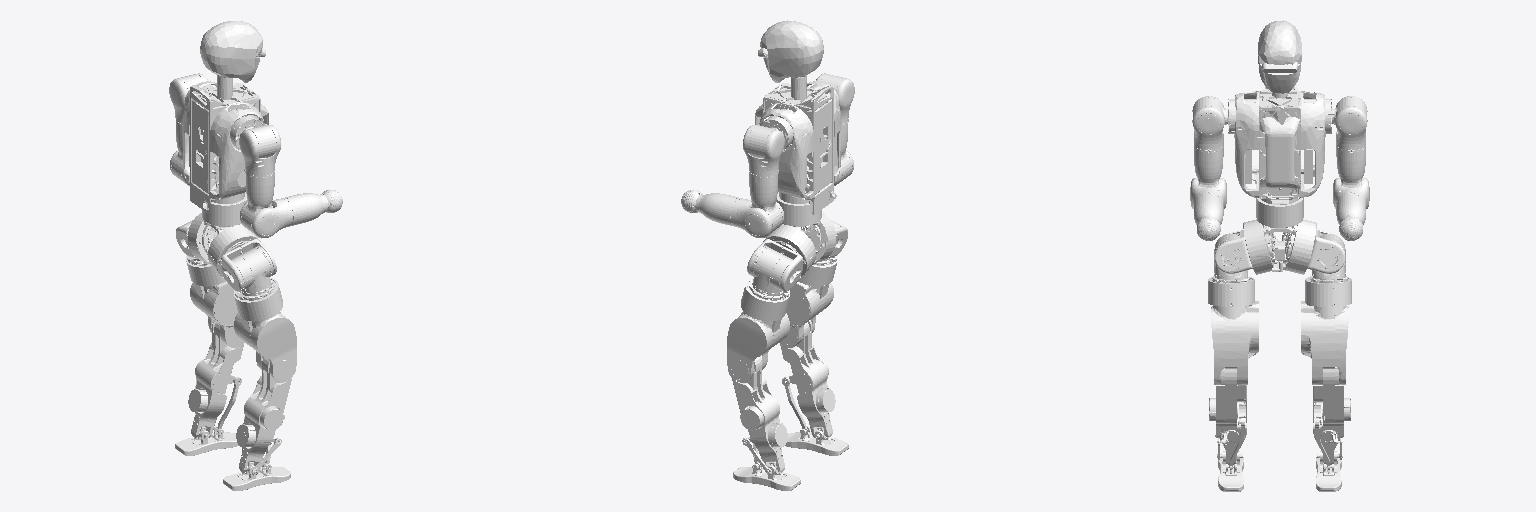
--- Facts derived from the render (not from the file) ---
3 views of the same robot in one strip: view 1: azimuth 30°, elevation 25°; view 2: azimuth 150°, elevation 25°; view 3: azimuth 270°, elevation 25° (orthographic).
Model GRMini1T1 with 29 links and 28 joints (12 revolute, 16 fixed), rooted at base_link, posed all joints at 0.
Links seen in each view (by area): view 1: torso_link, right_leg_yaw_link, right_knee_link, left_knee_link, left_leg_yaw_link, base_link, right_leg_roll_link, right_upper_arm_yaw_link, right_lower_arm_pitch_link, right_upper_arm_roll_link, right_ankle_pitch_link, waist_yaw_link (+5 smaller); view 2: torso_link, left_leg_yaw_link, left_knee_link, right_knee_link, right_leg_yaw_link, base_link, left_leg_roll_link, left_lower_arm_pitch_link, left_upper_arm_yaw_link, left_upper_arm_roll_link, left_ankle_pitch_link, right_ankle_pitch_link (+5 smaller); view 3: torso_link, right_leg_yaw_link, left_leg_yaw_link, base_link, left_knee_link, right_knee_link, right_upper_arm_roll_link, left_upper_arm_roll_link, waist_yaw_link, left_leg_pitch_link, right_leg_pitch_link, right_upper_arm_yaw_link (+5 smaller).
Boxes of the visible links, x1,y1,x2,y2 form: torso_link: (183,21,268,214); right_leg_yaw_link: (234,278,296,382); right_knee_link: (236,357,291,475); left_knee_link: (188,320,243,437); left_leg_yaw_link: (186,256,244,347); base_link: (188,213,260,276); right_leg_roll_link: (231,246,273,297); right_upper_arm_yaw_link: (241,170,274,232); right_lower_arm_pitch_link: (240,198,292,237); right_upper_arm_roll_link: (239,125,280,175); right_ankle_pitch_link: (223,463,290,490); waist_yaw_link: (202,192,247,225); torso_link: (755,20,840,214); left_leg_yaw_link: (727,278,789,382); left_knee_link: (732,357,787,475); right_knee_link: (780,320,835,437); right_leg_yaw_link: (779,256,837,347); base_link: (763,213,835,276); left_leg_roll_link: (750,246,792,297); left_lower_arm_pitch_link: (731,198,783,237); left_upper_arm_yaw_link: (749,170,782,232); left_upper_arm_roll_link: (743,125,784,175); left_ankle_pitch_link: (733,463,800,490); right_ankle_pitch_link: (785,426,848,455); torso_link: (1228,20,1335,204); right_leg_yaw_link: (1208,276,1258,384); left_leg_yaw_link: (1301,276,1351,384); base_link: (1243,219,1316,274); left_knee_link: (1313,367,1350,473); right_knee_link: (1209,367,1246,473); right_upper_arm_roll_link: (1192,96,1224,149); left_upper_arm_roll_link: (1335,96,1367,149); waist_yaw_link: (1256,198,1303,227); left_leg_pitch_link: (1307,230,1345,273); right_leg_pitch_link: (1214,230,1252,273); right_upper_arm_yaw_link: (1194,145,1223,187).
Bounding box of the posed robot: 0.3217 × 0.4413 × 1.23 m (x, y, z).
29 mesh visuals loaded from 29 distinct referenced files (29 binary STL).

URDF robot description (GRMini1T1):
<?xml version="1.0" encoding="utf-8"?>

<!-- 01232025-alpha-1 -->

<robot
  name="GRMini1T1">
  <link
    name="base_link">
    <inertial>
      <origin
        xyz="-0.00036119 0 -0.05865679"
        rpy="0 0 0" />
      <mass
        value="3.136" />
      <inertia
        ixx="0.01354598"
        ixy="-3.997E-05"
        ixz="-2.157E-05"
        iyy="0.01005144"
        iyz="-9E-08"
        izz="0.00953678" />
    </inertial>
    <visual>
      <origin
        xyz="0 0 0"
        rpy="0 0 0" />
      <geometry>
        <mesh
          filename="../meshes/base_link.STL" />
      </geometry>
      <material
        name="">
        <color
          rgba="1 1 1 1" />
      </material>
    </visual>
    <collision>
      <origin
        xyz="0 0 -0.05"
        rpy="1.57 0 0" />
      <geometry>
        <cylinder length="0.135" radius="0.065" />
      </geometry>
    </collision>
  </link>
  <link
    name="waist_yaw_link">
    <inertial>
      <origin
        xyz="-0.0012952 5.406E-05 0.02124105"
        rpy="0 0 0" />
      <mass
        value="0.925" />
      <inertia
        ixx="0.00120817"
        ixy="2.75E-06"
        ixz="-2.322E-05"
        iyy="0.001278"
        iyz="9.2E-07"
        izz="0.00150904" />
    </inertial>
    <visual>
      <origin
        xyz="0 0 0"
        rpy="0 0 0" />
      <geometry>
        <mesh
          filename="../meshes/waist_yaw_link.STL" />
      </geometry>
      <material
        name="">
        <color
          rgba="1 1 1 1" />
      </material>
    </visual>
    <collision>
      <origin
        xyz="0 0 0.04"
        rpy="0 0 0" />
      <geometry>
        <cylinder length="0.055" radius="0.06" />
      </geometry>
    </collision>
  </link>
  <joint
    name="waist_yaw_joint"
    type="fixed">
    <origin
      xyz="0 0 0.015"
      rpy="0 0 0" />
    <parent
      link="base_link" />
    <child
      link="waist_yaw_link" />
    <axis
      xyz="0 0 1" />
    <limit
      lower="-2.617"
      upper="2.617"
      effort="54"
      velocity="14.738" />
  </joint>
  <link
    name="torso_link">
    <inertial>
      <origin
        xyz="0.00326334 -0.00035944 -0.04529252"
        rpy="0 0 0" />
      <mass
        value="7.80" />
      <inertia
        ixx="0.08420823"
        ixy="-9.19E-06"
        ixz="-0.00126817"
        iyy="0.0746294"
        iyz="-0.00018247"
        izz="0.03706631" />
    </inertial>
    <visual>
      <origin
        xyz="0 0 0"
        rpy="0 0 0" />
      <geometry>
        <mesh
          filename="../meshes/torso_link.STL" />
      </geometry>
      <material
        name="">
        <color
          rgba="1 1 1 1" />
      </material>
    </visual>
    <collision>
      <origin
        xyz="0 0 -0.06"
        rpy="0 0 0" />
      <geometry>
        <cylinder length="0.22" radius="0.1" />
      </geometry>
    </collision>
    <collision>
      <origin
        xyz="0 0 0.19"
        rpy="0 0 0" />
      <geometry>
        <sphere radius="0.08" />
      </geometry>
    </collision>
  </link>
  <joint
    name="torso_joint"
    type="fixed">
    <origin
      xyz="0 0 0.2604"
      rpy="0 0 0" />
    <parent
      link="waist_yaw_link" />
    <child
      link="torso_link" />
    <axis
      xyz="0 0 0" />
  </joint>
  <link
    name="imu_link">
    <inertial>
      <origin
        xyz="0 -0.0064865 0.0015159"
        rpy="0 0 0" />
      <mass
        value="0.0417" />
      <inertia
        ixx="2.207E-05"
        ixy="0"
        ixz="0"
        iyy="1.047E-05"
        iyz="2.8E-07"
        izz="2.647E-05" />
    </inertial>
    <visual>
      <origin
        xyz="0 0 0"
        rpy="0 0 0" />
      <geometry>
        <mesh
          filename="../meshes/imu_link.STL" />
      </geometry>
      <material
        name="">
        <color
          rgba="1 1 1 1" />
      </material>
    </visual>
    <!-- <collision>
      <origin
        xyz="0 0 0"
        rpy="0 0 0" />
      <geometry>
        <mesh
          filename="../meshes/imu_link.STL" />
      </geometry>
    </collision> -->
  </link>
  <joint
    name="imu_joint"
    type="fixed">
    <origin
      xyz="0.07751 0 -0.05484"
      rpy="1.5708 0 0" />
    <parent
      link="base_link" />
    <child
      link="imu_link" />
    <axis
      xyz="0 0 0" />
  </joint>
  <link
    name="camera_link">
    <inertial>
      <origin
        xyz="0.01177 0.001661 0.00000248"
        rpy="0 0 0" />
      <mass
        value="0.0888" />
      <inertia
        ixx="5.738E-05"
        ixy="3.9E-07"
        ixz="3E-08"
        iyy="8.53E-06"
        iyz="3E-08"
        izz="5.778E-05" />
    </inertial>
    <visual>
      <origin
        xyz="0 0 0"
        rpy="0 0 0" />
      <geometry>
        <mesh
          filename="../meshes/camera_link.STL" />
      </geometry>
      <material
        name="">
        <color
          rgba="1 1 1 1" />
      </material>
    </visual>
    <!-- <collision>
      <origin
        xyz="0 0 0"
        rpy="0 0 0" />
      <geometry>
        <mesh
          filename="../meshes/camera_link.STL" />
      </geometry>
    </collision> -->
  </link>
  <joint
    name="camera_joint"
    type="fixed">
    <origin
      xyz="0.071504 0 0.1798"
      rpy="0 0.5236 0" />
    <parent
      link="torso_link" />
    <child
      link="camera_link" />
    <axis
      xyz="0 0 0" />
  </joint>
  <link
    name="left_upper_arm_pitch_link">
    <inertial>
      <origin
        xyz="-0.00010549 0.0460864 8.03E-06"
        rpy="0 0 0" />
      <mass
        value="0.8842" />
      <inertia
        ixx="0.00183017"
        ixy="1.16E-05"
        ixz="-1E-07"
        iyy="0.00062551"
        iyz="-6.2E-07"
        izz="0.00184165" />
    </inertial>
    <visual>
      <origin
        xyz="0 0 0"
        rpy="0 0 0" />
      <geometry>
        <mesh
          filename="../meshes/left_upper_arm_pitch_link.STL" />
      </geometry>
      <material
        name="">
        <color
          rgba="1 1 1 1" />
      </material>
    </visual>
    <!-- <collision>
      <origin
        xyz="0 0 0"
        rpy="0 0 0" />
      <geometry>
        <mesh
          filename="../meshes/left_upper_arm_pitch_link.STL" />
      </geometry>
    </collision> -->
  </link>
  <joint
    name="left_shoulder_pitch_joint"
    type="fixed">
    <origin
      xyz="0 0.09365 0"
      rpy="0 0 0" />
    <parent
      link="torso_link" />
    <child
      link="left_upper_arm_pitch_link" />
    <axis
      xyz="0 1 0" />
    <limit
      lower="-2.966"
      upper="2.966"
      effort="54"
      velocity="14.738" />
  </joint>
  <link
    name="left_upper_arm_roll_link">
    <inertial>
      <origin
        xyz="0.00487758 0.00044474 -0.04313933"
        rpy="0 0 0" />
      <mass
        value="0.714" />
      <inertia
        ixx="0.0017129"
        ixy="1.4E-07"
        ixz="-0.00014342"
        iyy="0.00181004"
        iyz="-3.78E-06"
        izz="0.00041574" />
    </inertial>
    <visual>
      <origin
        xyz="0 0 0"
        rpy="0 0 0" />
      <geometry>
        <mesh
          filename="../meshes/left_upper_arm_roll_link.STL" />
      </geometry>
      <material
        name="">
        <color
          rgba="1 1 1 1" />
      </material>
    </visual>
    <collision>
      <origin
        xyz="0 0 0"
        rpy="0 0 0" />
      <geometry>
        <sphere radius="0.032" />
      </geometry>
    </collision>
  </link>
  <joint
    name="left_shoulder_roll_joint"
    type="fixed">
    <origin
      xyz="0 0.082 0"
      rpy="0 0 0" />
    <parent
      link="left_upper_arm_pitch_link" />
    <child
      link="left_upper_arm_roll_link" />
    <axis
      xyz="1 0 0" />
    <limit
      lower="-0.174"
      upper="2.792"
      effort="30"
      velocity="16.747" />
  </joint>
  <link
    name="left_upper_arm_yaw_link">
    <inertial>
      <origin
        xyz="-9.046E-05 -0.00031442 -0.05567492"
        rpy="0 0 0" />
      <mass
        value="0.914" />
      <inertia
        ixx="0.00309353"
        ixy="2.64E-06"
        ixz="4.01E-06"
        iyy="0.00308587"
        iyz="-1.885E-05"
        izz="0.00073757" />
    </inertial>
    <visual>
      <origin
        xyz="0 0 0"
        rpy="0 0 0" />
      <geometry>
        <mesh
          filename="../meshes/left_upper_arm_yaw_link.STL" />
      </geometry>
      <material
        name="">
        <color
          rgba="1 1 1 1" />
      </material>
    </visual>
    <collision>
      <origin
        xyz="0 0 0"
        rpy="0 0 0" />
      <geometry>
        <cylinder length="0.12" radius="0.032" />
      </geometry>
    </collision>
  </link>
  <joint
    name="left_shoulder_yaw_joint"
    type="fixed">
    <origin
      xyz="0 0 -0.105"
      rpy="0 0 0" />
    <parent
      link="left_upper_arm_roll_link" />
    <child
      link="left_upper_arm_yaw_link" />
    <axis
      xyz="0 0 1" />
    <limit
      lower="-1.832"
      upper="1.832"
      effort="30"
      velocity="16.747" />
  </joint>
  <link
    name="left_lower_arm_pitch_link">
    <inertial>
      <origin
        xyz="-0.00041353 0.00475782 -0.04297115"
        rpy="0 0 0" />
      <mass
        value="0.712" />
      <inertia
        ixx="0.00180544"
        ixy="-4.6E-07"
        ixz="4.64E-06"
        iyy="0.00170948"
        iyz="-0.00014428"
        izz="0.00041681" />
    </inertial>
    <visual>
      <origin
        xyz="0 0 0"
        rpy="0 0 0" />
      <geometry>
        <mesh
          filename="../meshes/left_lower_arm_pitch_link.STL" />
      </geometry>
      <material
        name="">
        <color
          rgba="1 1 1 1" />
      </material>
    </visual>
    <!-- <collision>
      <origin
        xyz="0 0 0"
        rpy="0 0 0" />
      <geometry>
        <mesh
          filename="../meshes/left_lower_arm_pitch_link.STL" />
      </geometry>
    </collision> -->
  </link>
  <joint
    name="left_elbow_pitch_joint"
    type="fixed">
    <origin
      xyz="0 0 -0.105"
      rpy="0 -1.5708 0" />
    <parent
      link="left_upper_arm_yaw_link" />
    <child
      link="left_lower_arm_pitch_link" />
    <axis
      xyz="0 1 0" />
    <limit
      lower="-0.349"
      upper="1.658"
      effort="30"
      velocity="16.747" />
  </joint>
  <link
    name="left_hand_yaw_link">
    <inertial>
      <origin
        xyz="-0.00011544 1.57E-06 -0.00801349"
        rpy="0 0 0" />
      <mass
        value="0.4757" />
      <inertia
        ixx="0.00051886"
        ixy="-1.34E-06"
        ixz="2.04E-06"
        iyy="0.00051971"
        iyz="-1.4E-07"
        izz="0.00036493" />
    </inertial>
    <visual>
      <origin
        xyz="0 0 0"
        rpy="0 0 0" />
      <geometry>
        <mesh
          filename="../meshes/left_hand_yaw_link.STL" />
      </geometry>
      <material
        name="">
        <color
          rgba="1 1 1 1" />
      </material>
    </visual>
    <collision>
      <origin
        xyz="0 0 0"
        rpy="0 0 0" />
      <geometry>
        <cylinder length="0.12" radius="0.032" />
      </geometry>
    </collision>
  </link>
  <joint
    name="left_wrist_yaw_joint"
    type="fixed">
    <origin
      xyz="0 0 -0.105"
      rpy="0 0 0" />
    <parent
      link="left_lower_arm_pitch_link" />
    <child
      link="left_hand_yaw_link" />
    <axis
      xyz="0 0 1" />
    <limit
      lower="-1.832"
      upper="1.832"
      effort="30"
      velocity="16.747" />
  </joint>
  <link
    name="left_end_effector_link">
    <inertial>
      <origin
        xyz="0 0 -0.02249757"
        rpy="0 0 0" />
      <mass
        value="0.10131" />
      <inertia
        ixx="3.944E-05"
        ixy="0"
        ixz="0"
        iyy="3.944E-05"
        iyz="0"
        izz="4.691E-05" />
    </inertial>
    <visual>
      <origin
        xyz="0 0 0"
        rpy="0 0 0" />
      <geometry>
        <mesh
          filename="../meshes/left_end_effector_link.STL" />
      </geometry>
      <material
        name="">
        <color
          rgba="1 1 1 1" />
      </material>
    </visual>
    <collision>
      <origin
        xyz="0 0 0"
        rpy="0 0 0" />
      <geometry>
        <sphere radius="0.02751" />
      </geometry>
    </collision>
  </link>
  <joint
    name="left_end_effector_joint"
    type="fixed">
    <origin
      xyz="0 0 -0.08"
      rpy="0 0 0" />
    <parent
      link="left_hand_yaw_link" />
    <child
      link="left_end_effector_link" />
    <axis
      xyz="0 0 0" />
  </joint>
  <link
    name="right_upper_arm_pitch_link">
    <inertial>
      <origin
        xyz="-0.000108 -0.04608638 8.05E-06"
        rpy="0 0 0" />
      <mass
        value="0.8842" />
      <inertia
        ixx="0.00183017"
        ixy="-1.17E-05"
        ixz="-3.7E-07"
        iyy="0.0006258"
        iyz="1.11E-06"
        izz="0.00184154" />
    </inertial>
    <visual>
      <origin
        xyz="0 0 0"
        rpy="0 0 0" />
      <geometry>
        <mesh
          filename="../meshes/right_upper_arm_pitch_link.STL" />
      </geometry>
      <material
        name="">
        <color
          rgba="1 1 1 1" />
      </material>
    </visual>
    <!-- <collision>
      <origin
        xyz="0 0 0"
        rpy="0 0 0" />
      <geometry>
        <mesh
          filename="../meshes/right_upper_arm_pitch_link.STL" />
      </geometry>
    </collision> -->
  </link>
  <joint
    name="right_shoulder_pitch_joint"
    type="fixed">
    <origin
      xyz="0 -0.09365 0"
      rpy="0 0 0" />
    <parent
      link="torso_link" />
    <child
      link="right_upper_arm_pitch_link" />
    <axis
      xyz="0 1 0" />
    <limit
      lower="-2.966"
      upper="2.966"
      effort="54"
      velocity="14.738" />
  </joint>
  <link
    name="right_upper_arm_roll_link">
    <inertial>
      <origin
        xyz="0.00511059 -0.00047879 -0.04344687"
        rpy="0 0 0" />
      <mass
        value="0.711" />
      <inertia
        ixx="0.00170446"
        ixy="-8.2E-07"
        ixz="-0.00015263"
        iyy="0.001793"
        iyz="3.48E-06"
        izz="0.00040792" />
    </inertial>
    <visual>
      <origin
        xyz="0 0 0"
        rpy="0 0 0" />
      <geometry>
        <mesh
          filename="../meshes/right_upper_arm_roll_link.STL" />
      </geometry>
      <material
        name="">
        <color
          rgba="1 1 1 1" />
      </material>
    </visual>
    <collision>
      <origin
        xyz="0 0 0"
        rpy="0 0 0" />
      <geometry>
        <sphere radius="0.032" />
      </geometry>
    </collision>
  </link>
  <joint
    name="right_shoulder_roll_joint"
    type="fixed">
    <origin
      xyz="0 -0.082 0"
      rpy="0 0 0" />
    <parent
      link="right_upper_arm_pitch_link" />
    <child
      link="right_upper_arm_roll_link" />
    <axis
      xyz="1 0 0" />
    <limit
      lower="-2.792"
      upper="0.174"
      effort="30"
      velocity="16.747" />
  </joint>
  <link
    name="right_upper_arm_yaw_link">
    <inertial>
      <origin
        xyz="-9.057E-05 0.00031679 -0.05567576"
        rpy="0 0 0" />
      <mass
        value="0.914" />
      <inertia
        ixx="0.00309301"
        ixy="-2.19E-06"
        ixz="3.09E-06"
        iyy="0.00308608"
        iyz="1.923E-05"
        izz="0.00073722" />
    </inertial>
    <visual>
      <origin
        xyz="0 0 0"
        rpy="0 0 0" />
      <geometry>
        <mesh
          filename="../meshes/right_upper_arm_yaw_link.STL" />
      </geometry>
      <material
        name="">
        <color
          rgba="1 1 1 1" />
      </material>
    </visual>
    <collision>
      <origin
        xyz="0 0 0"
        rpy="0 0 0" />
      <geometry>
        <cylinder length="0.12" radius="0.032" />
      </geometry>
    </collision>
  </link>
  <joint
    name="right_shoulder_yaw_joint"
    type="fixed">
    <origin
      xyz="0 0 -0.105"
      rpy="0 0 0" />
    <parent
      link="right_upper_arm_roll_link" />
    <child
      link="right_upper_arm_yaw_link" />
    <axis
      xyz="0 0 1" />
    <limit
      lower="-1.832"
      upper="1.832"
      effort="30"
      velocity="16.747" />
  </joint>
  <link
    name="right_lower_arm_pitch_link">
    <inertial>
      <origin
        xyz="-0.00034586 -0.00474975 -0.04316726"
        rpy="0 0 0" />
      <mass
        value="0.712" />
      <inertia
        ixx="0.0018097"
        ixy="3.1E-07"
        ixz="4.16E-06"
        iyy="0.00171093"
        iyz="0.00014489"
        izz="0.0004139" />
    </inertial>
    <visual>
      <origin
        xyz="0 0 0"
        rpy="0 0 0" />
      <geometry>
        <mesh
          filename="../meshes/right_lower_arm_pitch_link.STL" />
      </geometry>
      <material
        name="">
        <color
          rgba="1 1 1 1" />
      </material>
    </visual>
    <!-- <collision>
      <origin
        xyz="0 0 0"
        rpy="0 0 0" />
      <geometry>
        <mesh
          filename="../meshes/right_lower_arm_pitch_link.STL" />
      </geometry>
    </collision> -->
  </link>
  <joint
    name="right_elbow_pitch_joint"
    type="fixed">
    <origin
      xyz="0 0 -0.105"
      rpy="0 -1.5708 0" />
    <parent
      link="right_upper_arm_yaw_link" />
    <child
      link="right_lower_arm_pitch_link" />
    <axis
      xyz="0 1 0" />
    <limit
      lower="-0.349"
      upper="1.658"
      effort="30"
      velocity="16.747" />
  </joint>
  <link
    name="right_hand_yaw_link">
    <inertial>
      <origin
        xyz="-0.00011545 0 -0.00801349"
        rpy="0 0 0" />
      <mass
        value="0.4757" />
      <inertia
        ixx="0.00050402"
        ixy="-1.35E-06"
        ixz="2.08E-06"
        iyy="0.00050479"
        iyz="-1.2E-07"
        izz="0.00035575" />
    </inertial>
    <visual>
      <origin
        xyz="0 0 0"
        rpy="0 0 0" />
      <geometry>
        <mesh
          filename="../meshes/right_hand_yaw_link.STL" />
      </geometry>
      <material
        name="">
        <color
          rgba="1 1 1 1" />
      </material>
    </visual>
    <collision>
      <origin
        xyz="0 0 0"
        rpy="0 0 0" />
      <geometry>
        <cylinder length="0.12" radius="0.032" />
      </geometry>
    </collision>
  </link>
  <joint
    name="right_wrist_yaw_joint"
    type="fixed">
    <origin
      xyz="0 0 -0.105"
      rpy="0 0 0" />
    <parent
      link="right_lower_arm_pitch_link" />
    <child
      link="right_hand_yaw_link" />
    <axis
      xyz="0 0 1" />
    <limit
      lower="-1.832"
      upper="1.832"
      effort="30"
      velocity="16.747" />
  </joint>
  <link
    name="right_end_effector_link">
    <inertial>
      <origin
        xyz="0 0 -0.02256981"
        rpy="0 0 0" />
      <mass
        value="0.101" />
      <inertia
        ixx="3.928E-05"
        ixy="0"
        ixz="0"
        iyy="3.928E-05"
        iyz="0"
        izz="4.686E-05" />
    </inertial>
    <visual>
      <origin
        xyz="0 0 0"
        rpy="0 0 0" />
      <geometry>
        <mesh
          filename="../meshes/right_end_effector_link.STL" />
      </geometry>
      <material
        name="">
        <color
          rgba="1 1 1 1" />
      </material>
    </visual>
    <collision>
      <origin
        xyz="0 0 0"
        rpy="0 0 0" />
      <geometry>
        <sphere radius="0.02751" />
      </geometry>
    </collision>
  </link>
  <joint
    name="right_end_effector_joint"
    type="fixed">
    <origin
      xyz="0 0 -0.08"
      rpy="0 0 0" />
    <parent
      link="right_hand_yaw_link" />
    <child
      link="right_end_effector_link" />
    <axis
      xyz="0 0 0" />
  </joint>
  <link
    name="left_leg_pitch_link">
    <inertial>
      <origin
        xyz="0.00469728 0.03703536 0.00024962"
        rpy="0 0 0" />
      <mass
        value="1.3008" />
      <inertia
        ixx="0.00196804"
        ixy="-0.00026927"
        ixz="-1.66E-06"
        iyy="0.001422"
        iyz="-3.85E-06"
        izz="0.00238063" />
    </inertial>
    <visual>
      <origin
        xyz="0 0 0"
        rpy="0 0 0" />
      <geometry>
        <mesh
          filename="../meshes/left_thigh_pitch_link.STL" />
      </geometry>
      <material
        name="">
        <color
          rgba="1 1 1 1" />
      </material>
    </visual>
    <!-- <collision>
      <origin
        xyz="0 0 0"
        rpy="0 0 0" />
      <geometry>
        <mesh
          filename="../meshes/left_thigh_pitch_link.STL" />
      </geometry>
    </collision> -->
  </link>
  <joint
    name="left_leg_pitch_joint"
    type="revolute">
    <origin
      xyz="0 0.048521 -0.076847"
      rpy="-0.2618 -0.2468 0" />
    <parent
      link="base_link" />
    <child
      link="left_leg_pitch_link" />
    <axis
      xyz="0 1 0" />
    <limit
      lower="-2.617"
      upper="2.617"
      effort="95"
      velocity="12.356" />
  </joint>
  <link
    name="left_leg_roll_link">
    <inertial>
      <origin
        xyz="0.00183717 -4.3E-06 -0.0321936"
        rpy="0 0 0" />
      <mass
        value="1.359" />
      <inertia
        ixx="0.00301719"
        ixy="0"
        ixz="-7.925E-05"
        iyy="0.00288693"
        iyz="1.3E-07"
        izz="0.00125495" />
    </inertial>
    <visual>
      <origin
        xyz="0 0 0"
        rpy="0 0 0" />
      <geometry>
        <mesh
          filename="../meshes/left_thigh_roll_link.STL" />
      </geometry>
      <material
        name="">
        <color
          rgba="1 1 1 1" />
      </material>
    </visual>
    <collision>
      <origin
        xyz="0 0 0"
        rpy="0 1.57 0" />
      <geometry>
        <cylinder length="0.12" radius="0.0415" />
      </geometry>
    </collision>
  </link>
  <joint
    name="left_leg_roll_joint"
    type="revolute">
    <origin
      xyz="0 0.074 0"
      rpy="0.2618 0 0" />
    <parent
      link="left_leg_pitch_link" />
    <child
      link="left_leg_roll_link" />
    <axis
      xyz="1 0 0" />
    <limit
      lower="-0.261"
      upper="1.57"
      effort="54"
      velocity="14.738" />
  </joint>
  <link
    name="left_leg_yaw_link">
    <inertial>
      <origin
        xyz="0.00216478 -0.00975305 -0.08357059"
        rpy="0 0 0" />
      <mass
        value="3.452" />
      <inertia
        ixx="0.01595427"
        ixy="-7.211E-05"
        ixz="0.00056878"
        iyy="0.01625329"
        iyz="-0.00067577"
        izz="0.00549487" />
    </inertial>
    <visual>
      <origin
        xyz="0 0 0"
        rpy="0 0 0" />
      <geometry>
        <mesh
          filename="../meshes/left_thigh_yaw_link.STL" />
      </geometry>
      <material
        name="">
        <color
          rgba="1 1 1 1" />
      </material>
    </visual>
    <collision>
      <origin
        xyz="0 0 -0.08"
        rpy="0 0 0" />
      <geometry>
        <cylinder length="0.19" radius="0.06" />
      </geometry>
    </collision>
  </link>
  <joint
    name="left_leg_yaw_joint"
    type="revolute">
    <origin
      xyz="0 0 -0.0875"
      rpy="0 0 0" />
    <parent
      link="left_leg_roll_link" />
    <child
      link="left_leg_yaw_link" />
    <axis
      xyz="0 0 1" />
    <limit
      lower="-2.617"
      upper="2.617"
      effort="54"
      velocity="14.738" />
  </joint>
  <link
    name="left_knee_link">
    <inertial>
      <origin
        xyz="0.00278302 0.00416562 -0.13561943"
        rpy="0 0 0" />
      <mass
        value="2.335" />
      <inertia
        ixx="0.0137577"
        ixy="3.742E-05"
        ixz="-0.00020387"
        iyy="0.01375527"
        iyz="-0.00027882"
        izz="0.00177327" />
    </inertial>
    <visual>
      <origin
        xyz="0 0 0"
        rpy="0 0 0" />
      <geometry>
        <mesh
          filename="../meshes/left_shank_pitch_link.STL" />
      </geometry>
      <material
        name="">
        <color
          rgba="1 1 1 1" />
      </material>
    </visual>
    <collision>
      <origin
        xyz="0 0 -0.12"
        rpy="0 0 0" />
      <geometry>
        <cylinder length="0.2" radius="0.04" />
      </geometry>
    </collision>
  </link>
  <joint
    name="left_knee_joint"
    type="revolute">
    <origin
      xyz="0 0 -0.2031"
      rpy="0 0.5181 0" />
    <parent
      link="left_leg_yaw_link" />
    <child
      link="left_knee_link" />
    <axis
      xyz="0 1 0" />
    <limit
      lower="-0.0872"
      upper="2.356"
      effort="95"
      velocity="12.356" />
  </joint>
  <link
    name="left_ankle_roll_link">
    <inertial>
      <origin
        xyz="0 0.001805 0"
        rpy="0 0 0" />
      <mass
        value="0.11173" />
      <inertia
        ixx="2.445E-05"
        ixy="0"
        ixz="0"
        iyy="2.876E-05"
        iyz="0"
        izz="1.162E-05" />
    </inertial>
    <visual>
      <origin
        xyz="0 0 0"
        rpy="0 0 0" />
      <geometry>
        <mesh
          filename="../meshes/left_foot_roll_link.STL" />
      </geometry>
      <material
        name="">
        <color
          rgba="1 1 1 1" />
      </material>
    </visual>
    <!-- <collision>
      <origin
        xyz="0 0 0"
        rpy="0 0 0" />
      <geometry>
        <mesh
          filename="../meshes/left_foot_roll_link.STL" />
      </geometry>
    </collision> -->
  </link>
  <joint
    name="left_ankle_roll_joint"
    type="revolute">
    <origin
      xyz="0 0 -0.28"
      rpy="0 0 0" />
    <parent
      link="left_knee_link" />
    <child
      link="left_ankle_roll_link" />
    <axis
      xyz="1 0 0" />
    <limit
      lower="-0.436"
      upper="0.436"
      effort="30"
      velocity="16.747" />
  </joint>
  <link
    name="left_ankle_pitch_link">
    <inertial>
      <origin
        xyz="0.023434 -0.00015234 -0.030677"
        rpy="0 0 0" />
      <mass
        value="0.391" />
      <inertia
        ixx="0.00014044"
        ixy="4.13E-06"
        ixz="-3.02E-06"
        iyy="0.00083366"
        iyz="-4.9E-07"
        izz="0.00089526" />
    </inertial>
    <visual>
      <origin
        xyz="0 0 0"
        rpy="0 0 0" />
      <geometry>
        <mesh
          filename="../meshes/left_foot_pitch_link.STL" />
      </geometry>
      <material
        name="">
        <color
          rgba="1 1 1 1" />
      </material>
    </visual>
    <collision>
      <origin
        xyz="0 0 0"
        rpy="0 0 0" />
      <geometry>
        <mesh
          filename="../meshes/left_foot_pitch_link.STL" />
      </geometry>
    </collision>
  </link>
  <joint
    name="left_ankle_pitch_joint"
    type="revolute">
    <origin
      xyz="0 0 0"
      rpy="0 -0.2408 0" />
    <parent
      link="left_ankle_roll_link" />
    <child
      link="left_ankle_pitch_link" />
    <axis
      xyz="0 1 0" />
    <limit
      lower="-0.436"
      upper="0.436"
      effort="30"
      velocity="16.747" />
  </joint>
  <link
    name="right_leg_pitch_link">
    <inertial>
      <origin
        xyz="0.0046972 -0.03703541 0.0002497"
        rpy="0 0 0" />
      <mass
        value="1.3007" />
      <inertia
        ixx="0.00196803"
        ixy="0.00026925"
        ixz="-1.64E-06"
        iyy="0.00142199"
        iyz="3.85E-06"
        izz="0.00238062" />
    </inertial>
    <visual>
      <origin
        xyz="0 0 0"
        rpy="0 0 0" />
      <geometry>
        <mesh
          filename="../meshes/right_thigh_pitch_link.STL" />
      </geometry>
      <material
        name="">
        <color
          rgba="1 1 1 1" />
      </material>
    </visual>
    <!-- <collision>
      <origin
        xyz="0 0 0"
        rpy="0 0 0" />
      <geometry>
        <mesh
          filename="../meshes/right_thigh_pitch_link.STL" />
      </geometry>
    </collision> -->
  </link>
  <joint
    name="right_leg_pitch_joint"
    type="revolute">
    <origin
      xyz="0 -0.048521 -0.076847"
      rpy="0.2618 -0.2468 0" />
    <parent
      link="base_link" />
    <child
      link="right_leg_pitch_link" />
    <axis
      xyz="0 1 0" />
    <limit
      lower="-2.617"
      upper="2.617"
      effort="95"
      velocity="12.356" />
  </joint>
  <link
    name="right_leg_roll_link">
    <inertial>
      <origin
        xyz="0.00184399 -4.33E-06 -0.0321936"
        rpy="0 0 0" />
      <mass
        value="1.359" />
      <inertia
        ixx="0.00301719"
        ixy="-2.62E-06"
        ixz="-7.905E-05"
        iyy="0.00288689"
        iyz="1.3E-07"
        izz="0.00125492" />
    </inertial>
    <visual>
      <origin
        xyz="0 0 0"
        rpy="0 0 0" />
      <geometry>
        <mesh
          filename="../meshes/right_thigh_roll_link.STL" />
      </geometry>
      <material
        name="">
        <color
          rgba="1 1 1 1" />
      </material>
    </visual>
    <collision>
      <origin
        xyz="0 0 0"
        rpy="0 1.57 0" />
      <geometry>
        <cylinder length="0.12" radius="0.0415" />
      </geometry>
    </collision>
  </link>
  <joint
    name="right_leg_roll_joint"
    type="revolute">
    <origin
      xyz="0 -0.074 0"
      rpy="-0.2618 0 0" />
    <parent
      link="right_leg_pitch_link" />
    <child
      link="right_leg_roll_link" />
    <axis
      xyz="1 0 0" />
    <limit
      lower="-1.57"
      upper="0.261"
      effort="54"
      velocity="14.738" />
  </joint>
  <link
    name="right_leg_yaw_link">
    <inertial>
      <origin
        xyz="0.00216082 0.0097519 -0.08357113"
        rpy="0 0 0" />
      <mass
        value="3.4517" />
      <inertia
        ixx="0.01595424"
        ixy="8.995E-05"
        ixz="0.0005756"
        iyy="0.01625372"
        iyz="0.00067856"
        izz="0.00549498" />
    </inertial>
    <visual>
      <origin
        xyz="0 0 0"
        rpy="0 0 0" />
      <geometry>
        <mesh
          filename="../meshes/right_thigh_yaw_link.STL" />
      </geometry>
      <material
        name="">
        <color
          rgba="1 1 1 1" />
      </material>
    </visual>
    <collision>
      <origin
        xyz="0 0 -0.08"
        rpy="0 0 0" />
      <geometry>
        <cylinder length="0.19" radius="0.06" />
      </geometry>
    </collision>
  </link>
  <joint
    name="right_leg_yaw_joint"
    type="revolute">
    <origin
      xyz="0 0 -0.0875"
      rpy="0 0 0" />
    <parent
      link="right_leg_roll_link" />
    <child
      link="right_leg_yaw_link" />
    <axis
      xyz="0 0 1" />
    <limit
      lower="-2.617"
      upper="2.617"
      effort="54"
      velocity="14.738" />
  </joint>
  <link
    name="right_knee_link">
    <inertial>
      <origin
        xyz="0.00280042 -0.00416601 -0.13563881"
        rpy="0 0 0" />
      <mass
        value="2.3362" />
      <inertia
        ixx="0.01376093"
        ixy="-3.751E-05"
        ixz="-0.00020231"
        iyy="0.01376155"
        iyz="0.0002805"
        izz="0.00177865" />
    </inertial>
    <visual>
      <origin
        xyz="0 0 0"
        rpy="0 0 0" />
      <geometry>
        <mesh
          filename="../meshes/right_shank_pitch_link.STL" />
      </geometry>
      <material
        name="">
        <color
          rgba="1 1 1 1" />
      </material>
    </visual>
    <collision>
      <origin
        xyz="0 0 -0.12"
        rpy="0 0 0" />
      <geometry>
        <cylinder length="0.2" radius="0.04" />
      </geometry>
    </collision>
  </link>
  <joint
    name="right_knee_joint"
    type="revolute">
    <origin
      xyz="0 0 -0.2031"
      rpy="0 0.5181 0" />
    <parent
      link="right_leg_yaw_link" />
    <child
      link="right_knee_link" />
    <axis
      xyz="0 1 0" />
    <limit
      lower="-0.0872"
      upper="2.356"
      effort="95"
      velocity="12.356" />
  </joint>
  <link
    name="right_ankle_roll_link">
    <inertial>
      <origin
        xyz="0 -0.00180591 0"
        rpy="0 0 0" />
      <mass
        value="0.11173" />
      <inertia
        ixx="2.445E-05"
        ixy="0"
        ixz="0"
        iyy="1.162E-05"
        iyz="0"
        izz="2.876E-05" />
    </inertial>
    <visual>
      <origin
        xyz="0 0 0"
        rpy="0 0 0" />
      <geometry>
        <mesh
          filename="../meshes/right_foot_roll_link.STL" />
      </geometry>
      <material
        name="">
        <color
          rgba="1 1 1 1" />
      </material>
    </visual>
    <!-- <collision>
      <origin
        xyz="0 0 0"
        rpy="0 0 0" />
      <geometry>
        <mesh
          filename="../meshes/right_foot_roll_link.STL" />
      </geometry>
    </collision> -->
  </link>
  <joint
    name="right_ankle_roll_joint"
    type="revolute">
    <origin
      xyz="0 0 -0.28"
      rpy="0 0 0" />
    <parent
      link="right_knee_link" />
    <child
      link="right_ankle_roll_link" />
    <axis
      xyz="1 0 0" />
    <limit
      lower="-0.436"
      upper="0.436"
      effort="30"
      velocity="16.747" />
  </joint>
  <link
    name="right_ankle_pitch_link">
    <inertial>
      <origin
        xyz="0.02390942 0.00023117 -0.03019942"
        rpy="0 0 0" />
      <mass
        value="0.398" />
      <inertia
        ixx="0.00014598"
        ixy="-4.93E-06"
        ixz="-7.67E-06"
        iyy="0.00084376"
        iyz="-3.3E-07"
        izz="0.00090081" />
    </inertial>
    <visual>
      <origin
        xyz="0 0 0"
        rpy="0 0 0" />
      <geometry>
        <mesh
          filename="../meshes/right_foot_pitch_link.STL" />
      </geometry>
      <material
        name="">
        <color
          rgba="1 1 1 1" />
      </material>
    </visual>
    <collision>
      <origin
        xyz="0 0 0"
        rpy="0 0 0" />
      <geometry>
        <mesh
          filename="../meshes/right_foot_pitch_link.STL" />
      </geometry>
    </collision>
  </link>
  <joint
    name="right_ankle_pitch_joint"
    type="revolute">
    <origin
      xyz="0 0 0"
      rpy="0 -0.2408 0" />
    <parent
      link="right_ankle_roll_link" />
    <child
      link="right_ankle_pitch_link" />
    <axis
      xyz="0 1 0" />
    <limit
      lower="-0.436"
      upper="0.436"
      effort="30"
      velocity="16.747" />
  </joint>
</robot>
